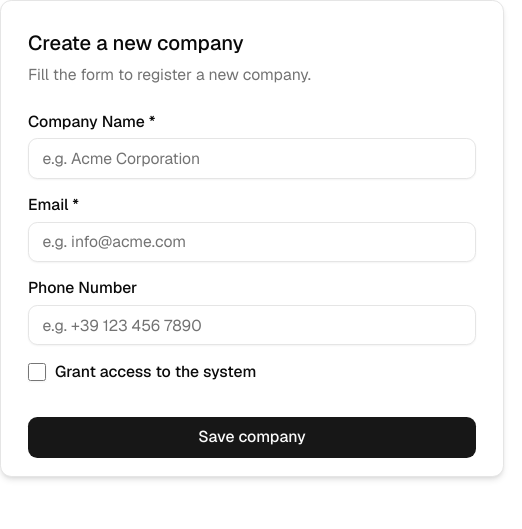
Test: CompanyForm › should validate phone number format
Type "Test Company" into the field labelled "Company Name *". click: (252, 159)
box: [28,138,476,179]
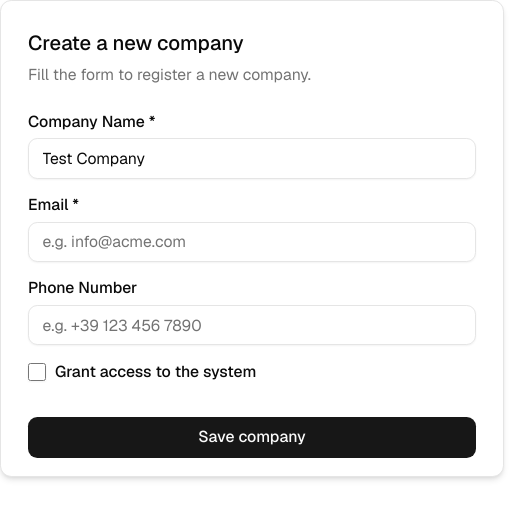
Type "test@company.com" into the field labelled "Email *". click: (252, 242)
box: [28,222,476,262]
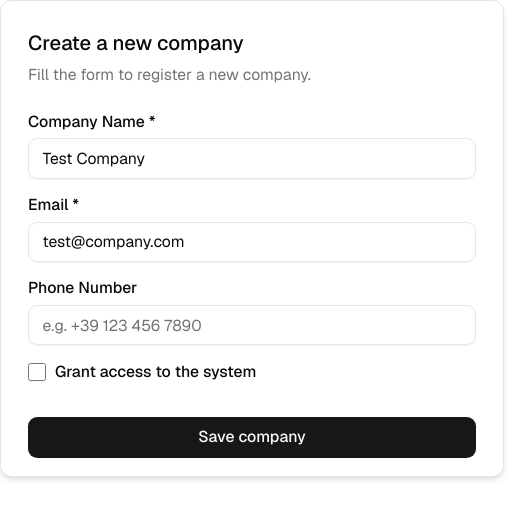
Type "123" into the field labelled "Phone Number". click: (252, 325)
box: [28,305,476,345]
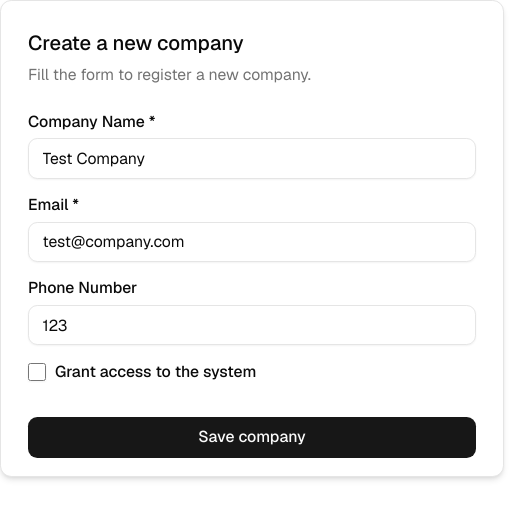
Click the button "Save company". click: (252, 438)
box: [28,417,476,458]
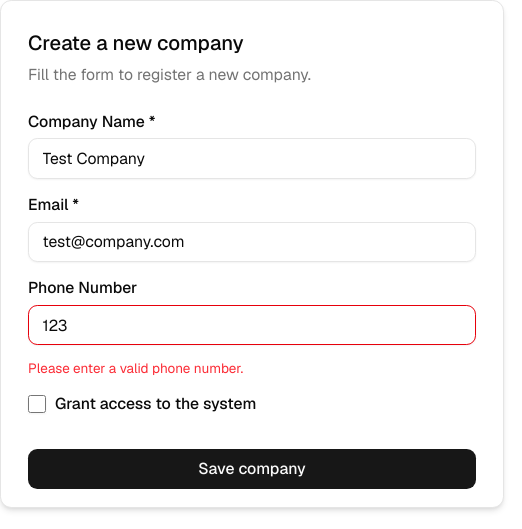
Now the text "Please enter a valid phone number." is shown, box [28,359,243,377]
